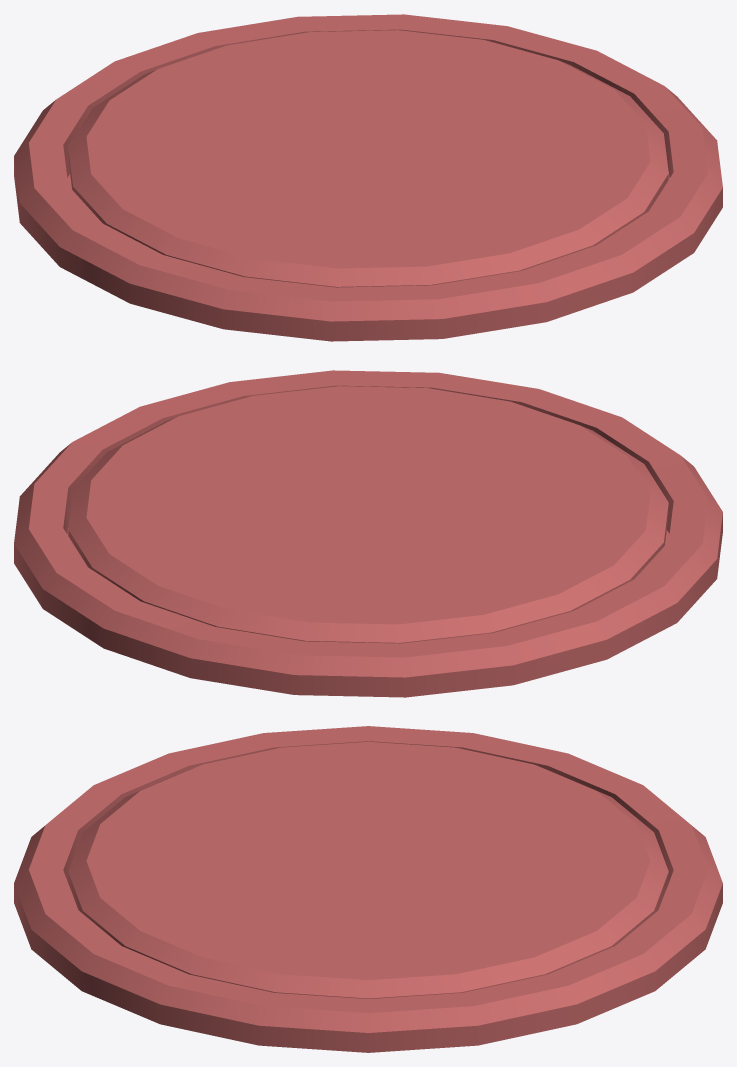
File: Button_LowPoly.fbx
3 renders of one model, top to bottom at view 1: azimuth 30°, elevation 25°; view 2: azimuth 150°, elevation 25°; view 3: azimuth 270°, elevation 25°, orthographic.
Visible parts, largest first — view 1: ButtonButton_Low, ButtonBase_Low; view 2: ButtonButton_Low, ButtonBase_Low; view 3: ButtonButton_Low, ButtonBase_Low.
Boxes of the visible parts, box(x1,y1,x2,y2) form: ButtonButton_Low: box(68, 30, 668, 287); ButtonBase_Low: box(14, 14, 722, 341); ButtonButton_Low: box(68, 386, 668, 643); ButtonBase_Low: box(14, 370, 722, 697); ButtonButton_Low: box(68, 741, 668, 998); ButtonBase_Low: box(14, 726, 722, 1052).
Size of the model in its own units: 196 by 14.77 by 196.
